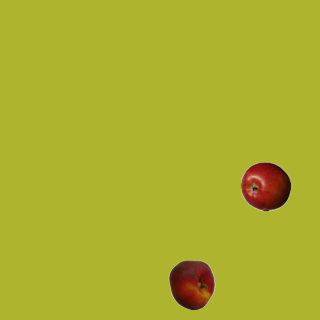Apple Braeburn: (240, 161, 290, 211)
Nectarine Flat: (166, 259, 216, 309)
